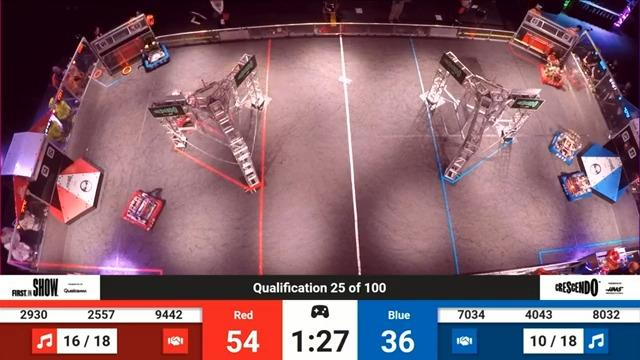robot: (121, 190, 167, 234), (554, 171, 596, 205), (547, 124, 582, 163), (139, 39, 175, 72), (542, 53, 568, 91)
